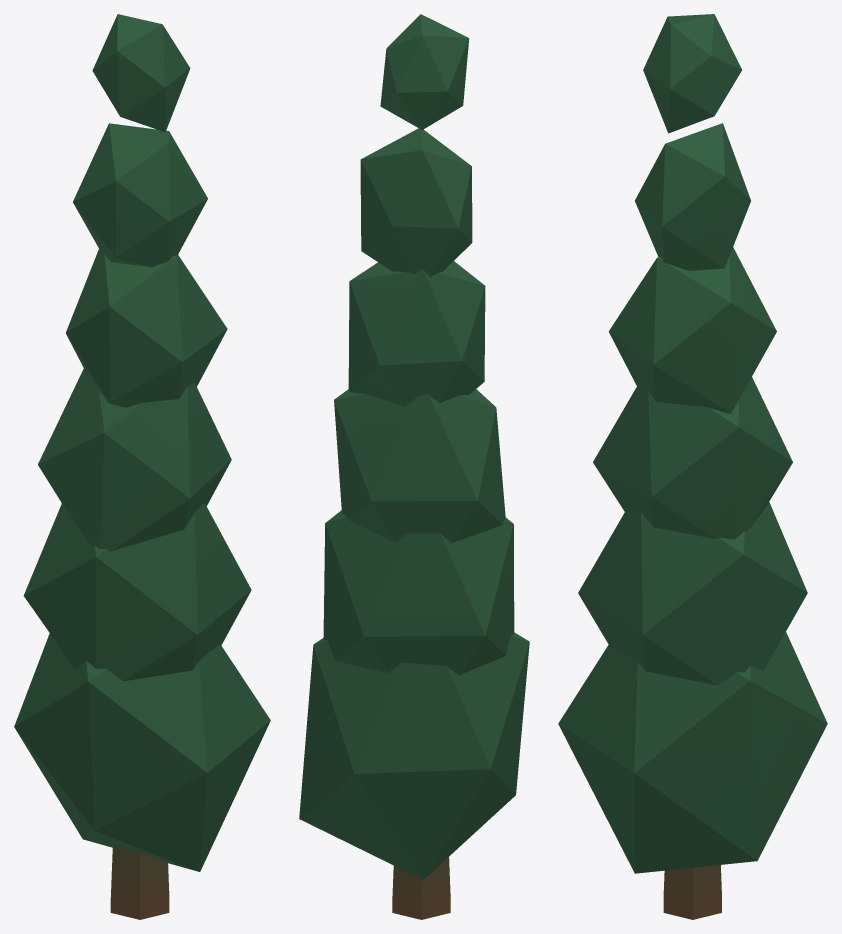
File: cypress_1.glb
The picture shows the model from 3 angles, left to right: view 1: azimuth 30°, elevation 25°; view 2: azimuth 150°, elevation 25°; view 3: azimuth 270°, elevation 25°; orthographic projection.
Visible parts, largest first — view 1: cypress_1; view 2: cypress_1; view 3: cypress_1.
Part boxes in pixels (x1=…): cypress_1: x1=14, y1=14, x2=270, y2=919; cypress_1: x1=299, y1=14, x2=529, y2=919; cypress_1: x1=558, y1=14, x2=827, y2=919.
Size of the model in its own units: 0.7473 by 3.18 by 0.8761.
